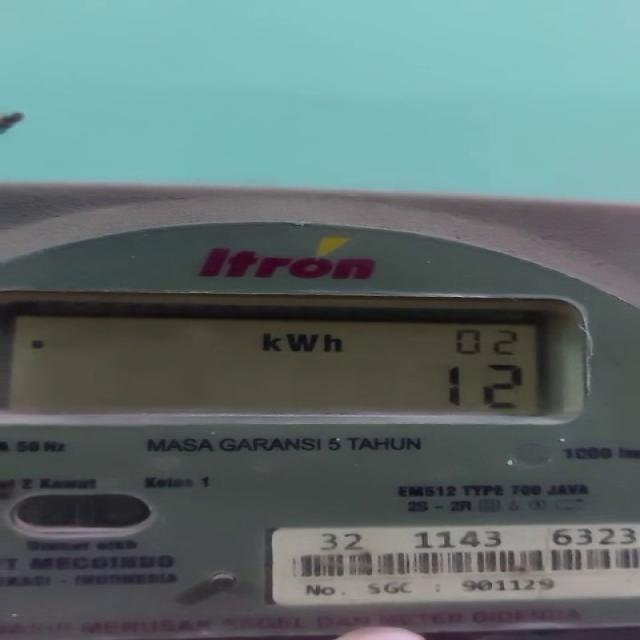LCD: (9, 295, 563, 420)
